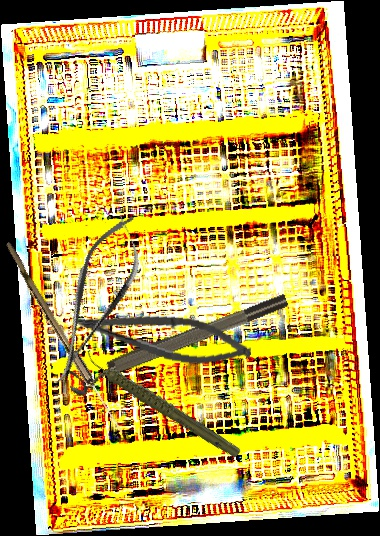Fixation Ring: (63, 290, 294, 399)
Handpiece: (83, 322, 243, 485)
Micro Scissor: (33, 205, 158, 394), (68, 304, 255, 371)
Surgical Spoon: (0, 241, 128, 436)
